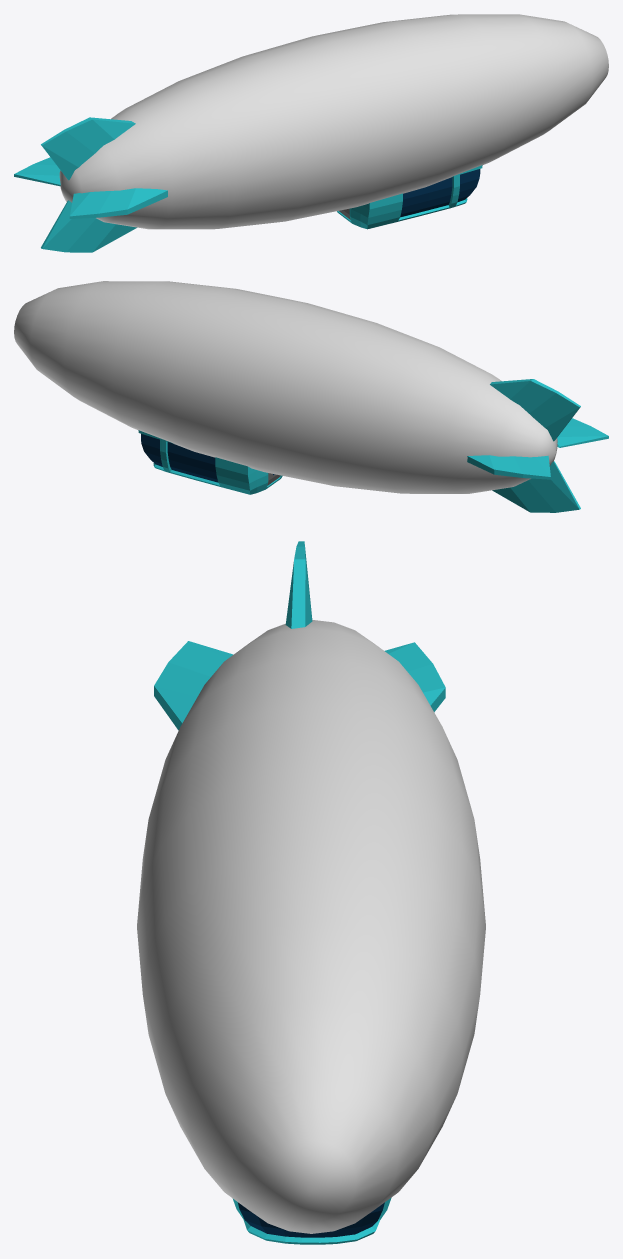
Rendered from zeplin.FBX.
3 renders of one model, top to bottom at view 1: azimuth 30°, elevation 25°; view 2: azimuth 150°, elevation 25°; view 3: azimuth 270°, elevation 25°, orthographic. The views are drawn at different scales.
Parts seen in each view (by area): view 1: Sphere001, wings, cabin_1; view 2: Sphere001, wings, cabin_1; view 3: Sphere001, wings, cabin_1.
Boxes of the visible parts, x1,y1,x2,y2 form: Sphere001: (59,14,608,229); wings: (14,117,167,252); cabin_1: (337,165,482,229); Sphere001: (14,281,557,493); wings: (467,379,608,512); cabin_1: (138,430,282,494); Sphere001: (137,620,485,1233); wings: (154,541,445,730); cabin_1: (232,1197,391,1244).
Size of the model in its own units: 761 by 205 by 230.
